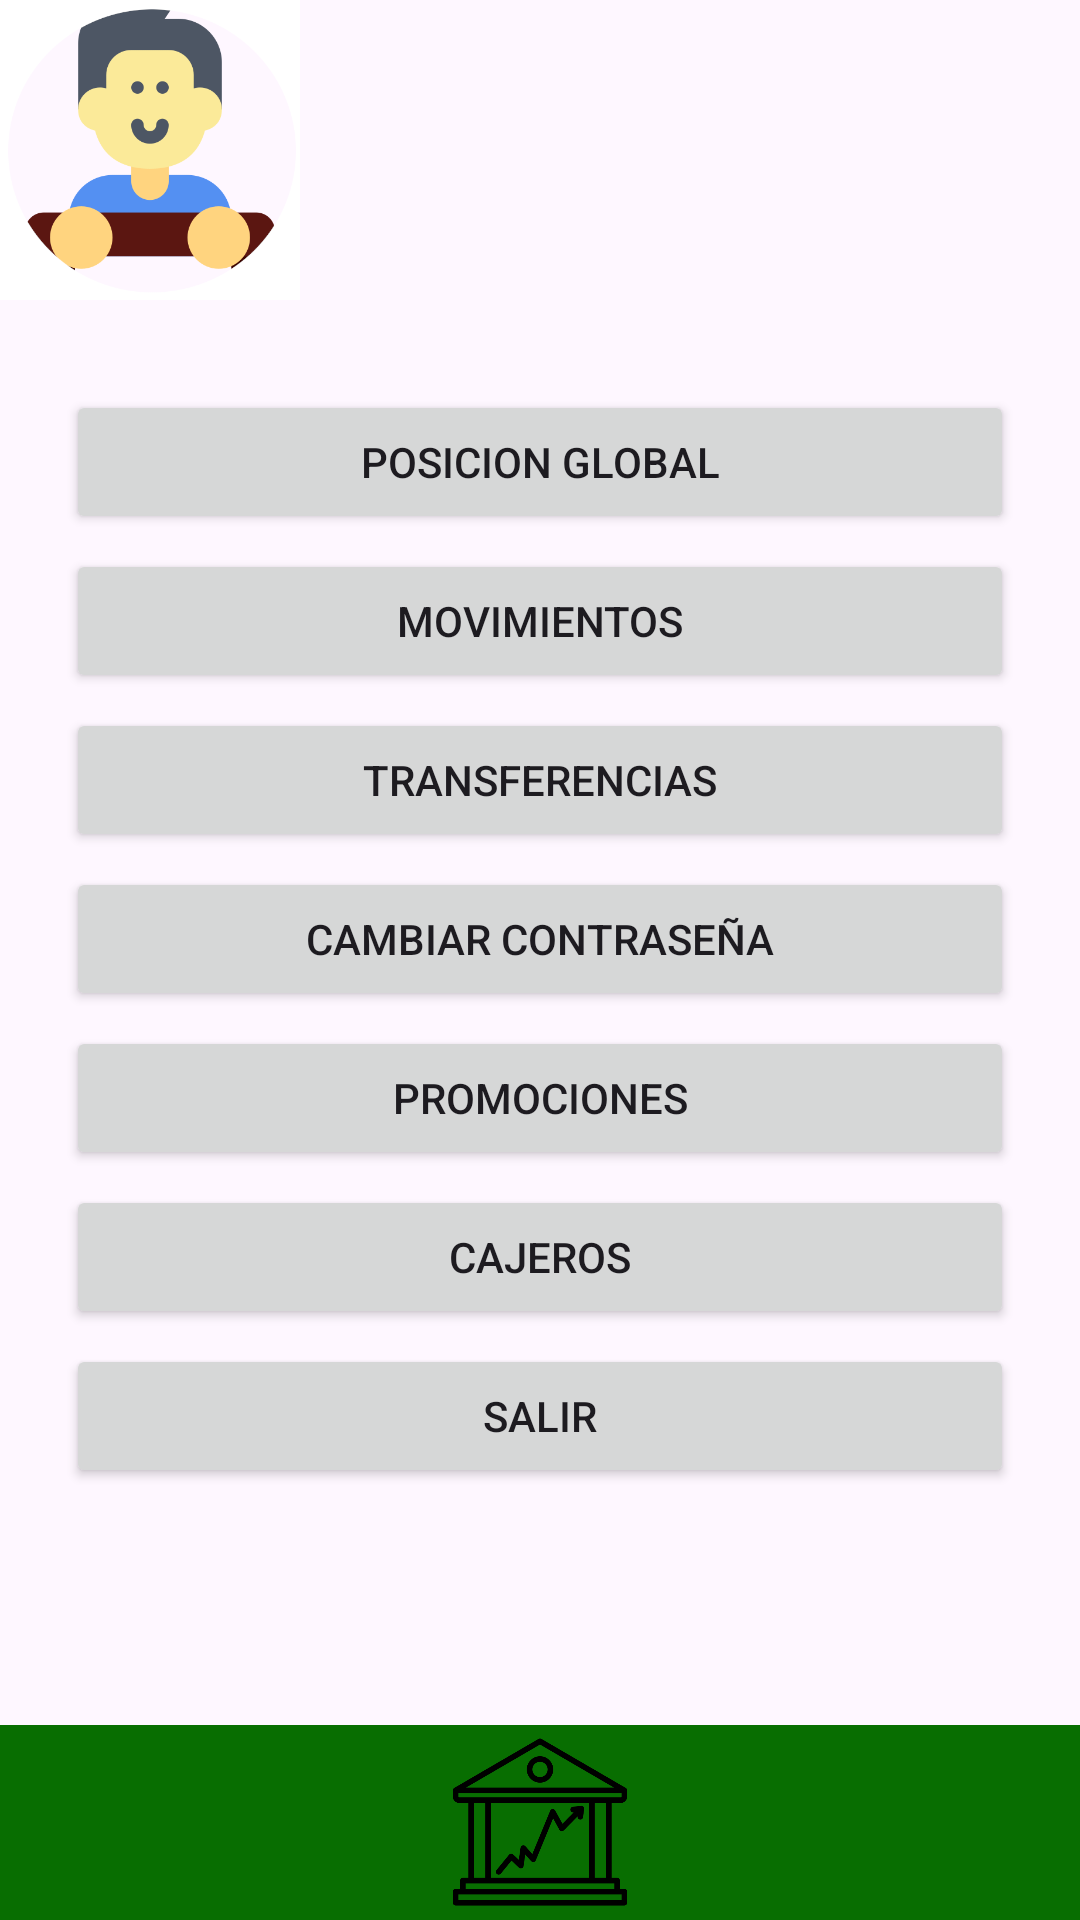

Where icons sit on this 1080px x 1920px app screen, as (x1, y1, x2, y2):
bank: (453, 1738, 627, 1906)
person: (27, 9, 274, 270)
